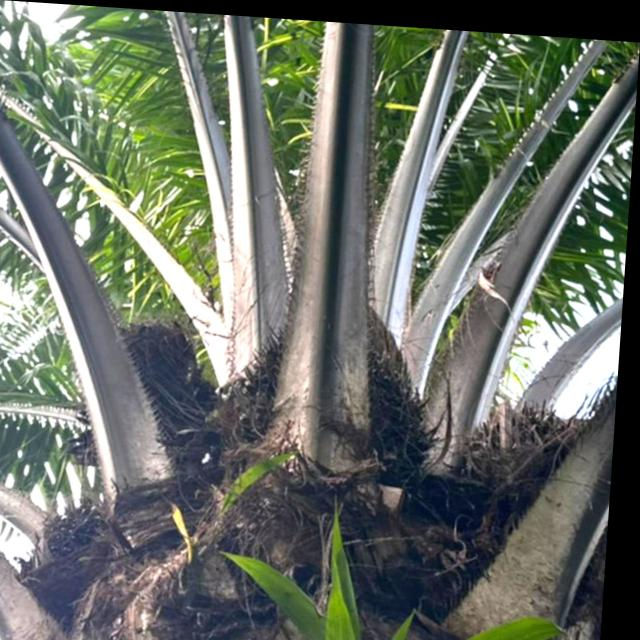unripe: (225, 266, 463, 502)
